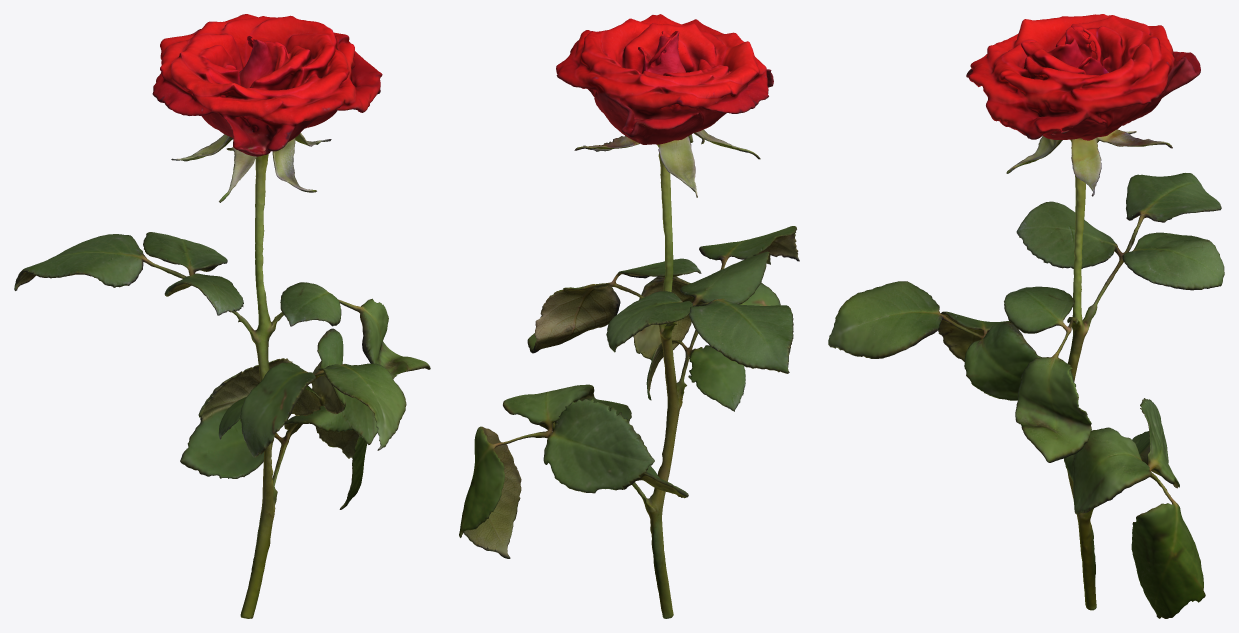
File: red_rose2.glb
3 renders of one model, left to right at view 1: azimuth 30°, elevation 25°; view 2: azimuth 150°, elevation 25°; view 3: azimuth 270°, elevation 25°, orthographic.
Visible parts, largest first — view 1: Object_2, Object_3; view 2: Object_2, Object_3; view 3: Object_2, Object_3.
Part boxes in pixels (left/top/right/bottom): Object_2: left=14, top=39, right=430, bottom=618; Object_3: left=100, top=14, right=394, bottom=496; Object_2: left=459, top=31, right=799, bottom=618; Object_3: left=538, top=14, right=773, bottom=478; Object_2: left=828, top=27, right=1224, bottom=618; Object_3: left=966, top=14, right=1207, bottom=488.
Bounding box in the file's own units: 1.51 × 2.5 × 1.54.
1 material, 1 textured.
